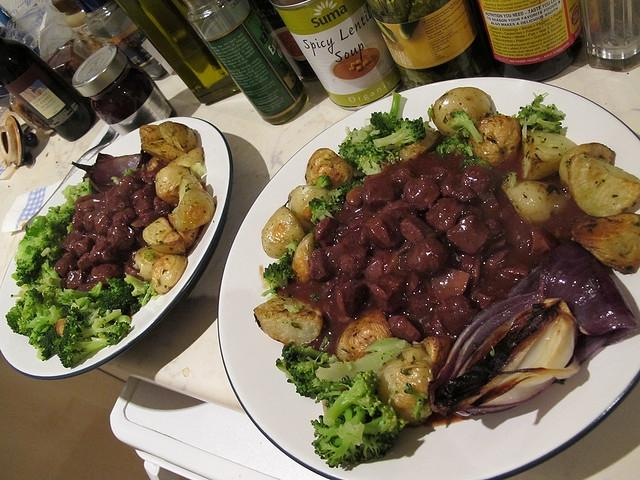broccoli: (275, 337, 412, 397), (311, 398, 408, 468), (314, 370, 384, 426), (338, 125, 387, 176), (26, 300, 64, 346), (365, 92, 402, 138), (96, 278, 140, 316), (372, 117, 426, 147), (262, 252, 296, 297), (60, 178, 91, 223), (16, 245, 46, 287), (447, 110, 482, 144), (436, 133, 474, 158), (36, 327, 62, 361), (29, 226, 63, 251), (6, 305, 32, 336), (62, 317, 94, 342), (36, 259, 61, 289), (308, 195, 334, 223), (326, 182, 352, 206), (124, 274, 150, 297), (25, 215, 49, 238), (23, 287, 44, 310), (48, 212, 70, 233), (82, 306, 102, 328), (536, 118, 562, 134), (56, 288, 78, 306), (42, 285, 56, 306), (46, 206, 61, 224), (107, 332, 124, 346), (57, 303, 72, 316), (75, 297, 88, 306)
onion: (428, 239, 640, 419), (89, 150, 153, 194)
potato: (376, 344, 434, 428), (568, 153, 638, 217), (572, 212, 640, 275), (468, 115, 524, 176), (515, 130, 580, 182), (254, 296, 322, 344), (432, 87, 496, 137), (336, 308, 393, 361), (501, 180, 571, 222), (559, 142, 616, 192), (168, 174, 215, 231), (262, 205, 306, 259), (304, 148, 355, 191), (288, 184, 332, 232), (142, 217, 185, 255), (150, 254, 188, 296), (399, 128, 441, 162), (155, 166, 189, 206), (159, 121, 198, 154), (292, 232, 316, 284), (141, 139, 186, 166), (136, 246, 166, 280), (166, 146, 204, 168), (176, 226, 200, 250), (139, 125, 165, 144)
